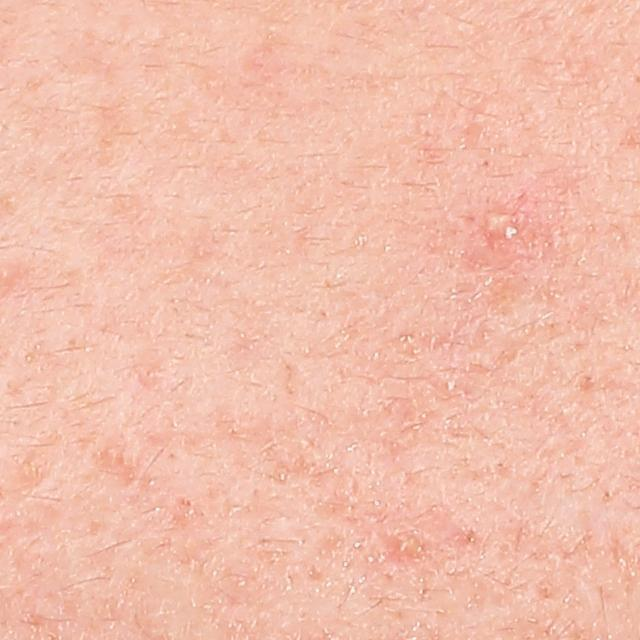pustule: (485, 205, 515, 239)
